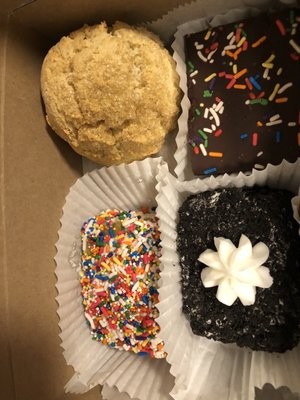salad: (176, 1, 300, 183), (40, 20, 184, 166), (176, 186, 300, 354), (79, 208, 167, 360)
